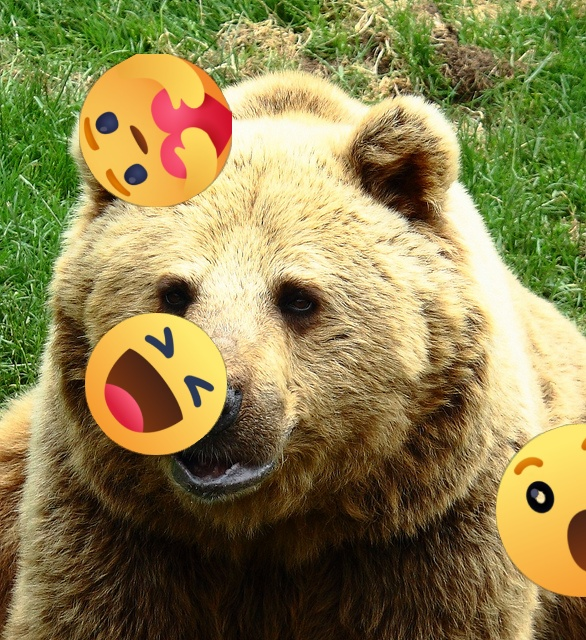care: (79, 54, 232, 207)
haha: (85, 313, 227, 455)
wow: (496, 424, 586, 597)
